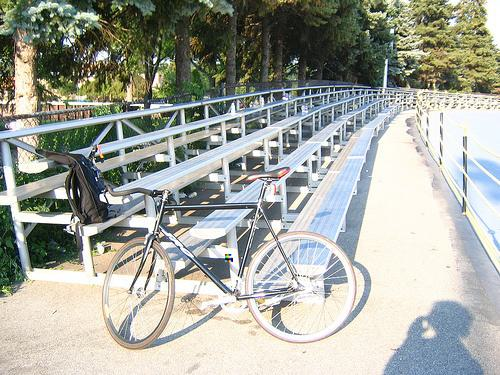car: (102, 167, 357, 350)
